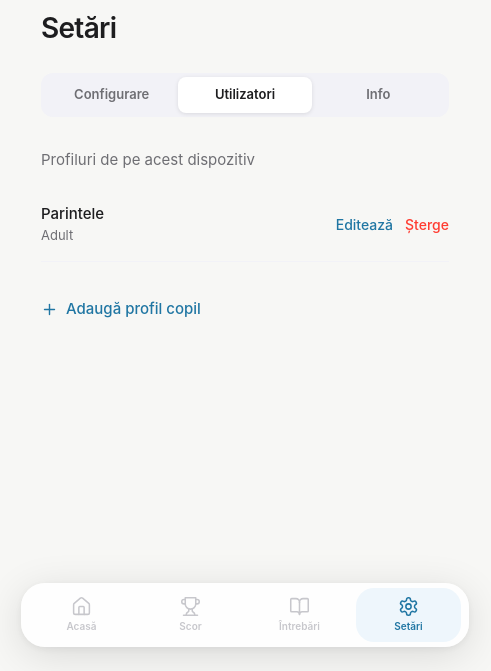
Test case: R8: Setări > Configurare -- prize states › voting open shows the closing instant labeled as destination time
Click the button "Configurare".
click(112, 95)  # box top-left (45, 77), bottom-right (178, 112)
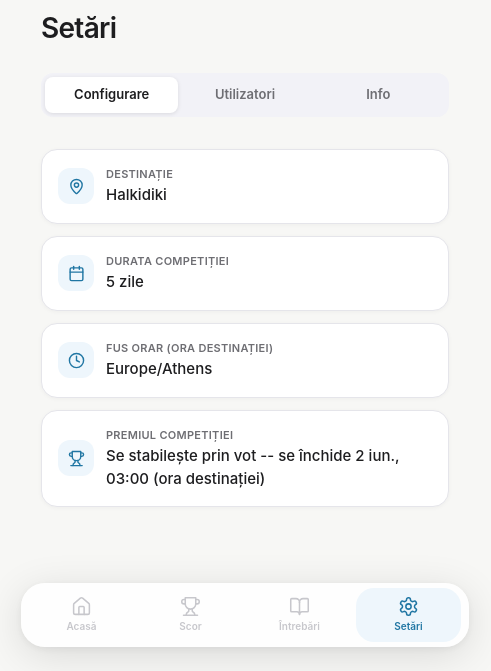
Check: the text "Se stabilește prin vot" shows "închide", box top-left (106, 446), bottom-right (399, 488)
Check: the text "Se stabilește prin vot" shows "ora destinației", box top-left (106, 446), bottom-right (399, 488)
